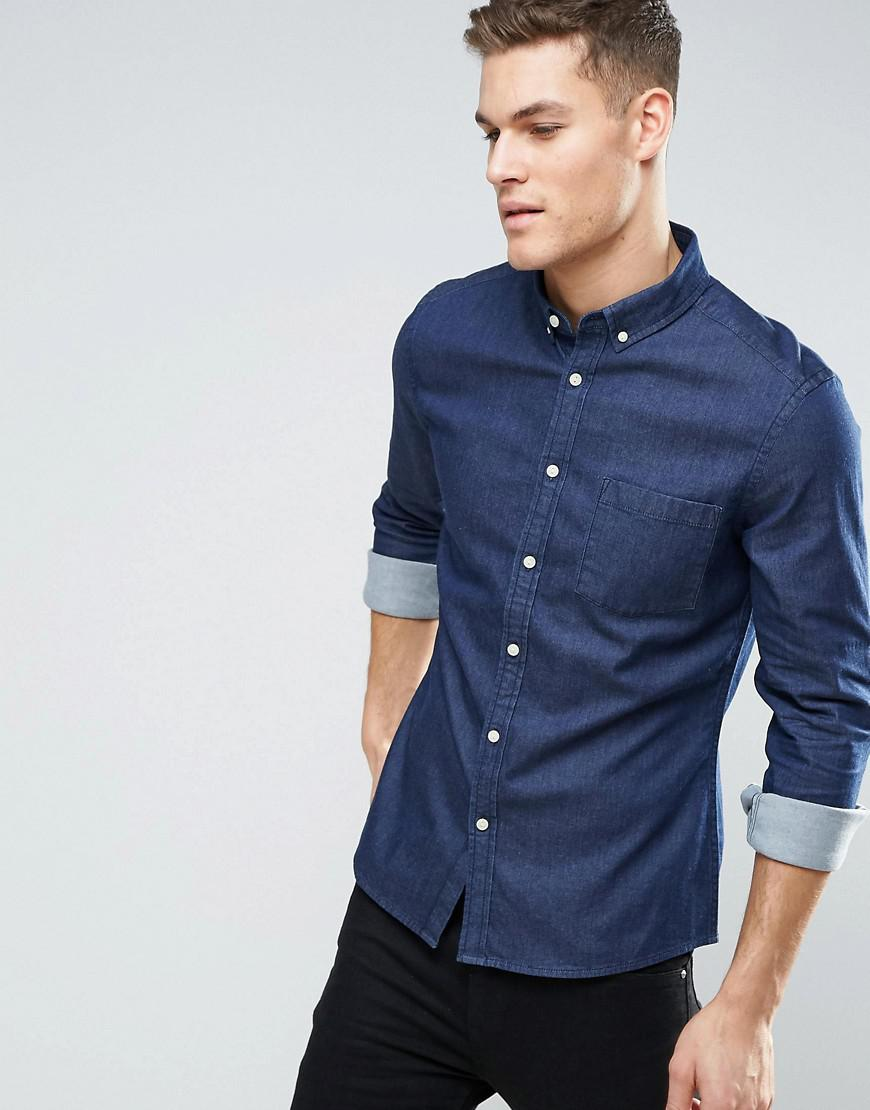teeshirt: (340, 246, 868, 1034)
